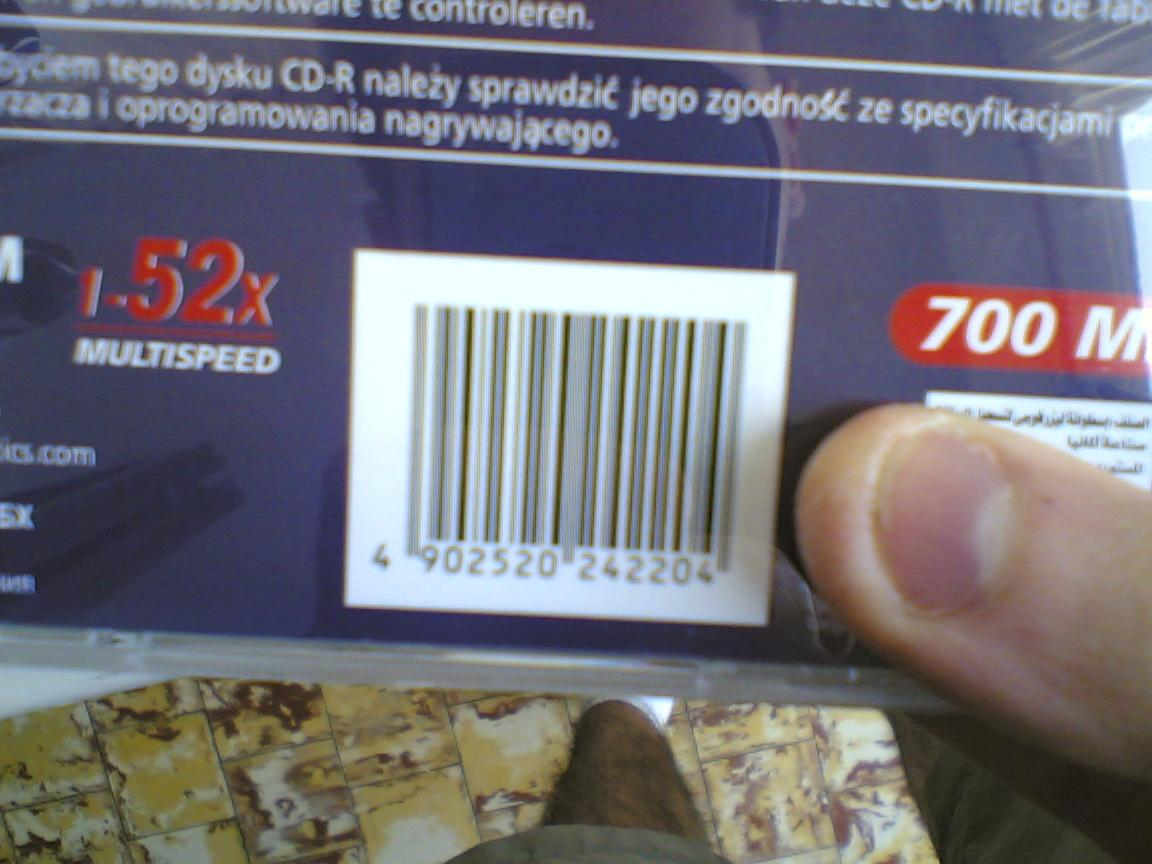Barcode: (359, 271, 768, 608)
